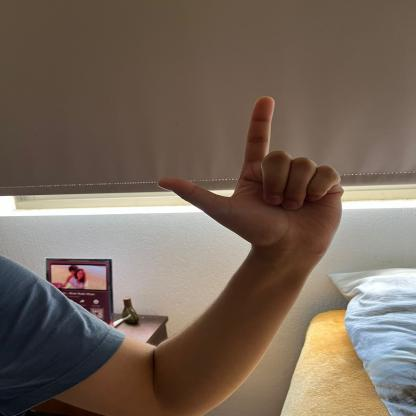L: (153, 93, 350, 255)
